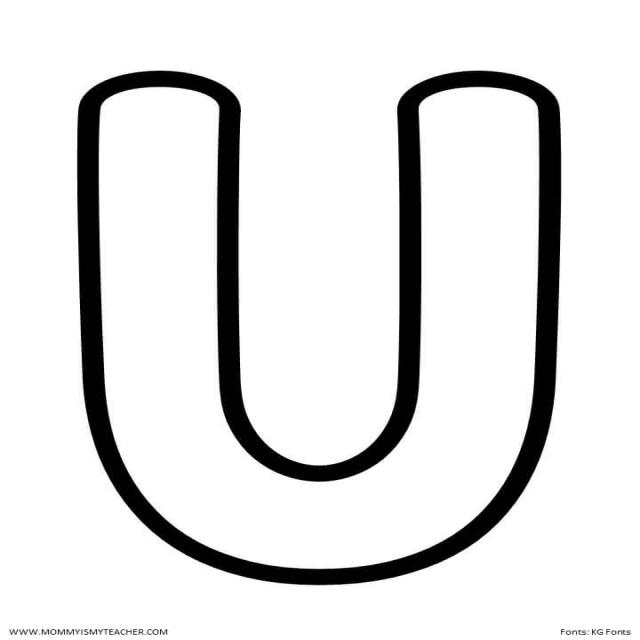U: (49, 31, 600, 606)
